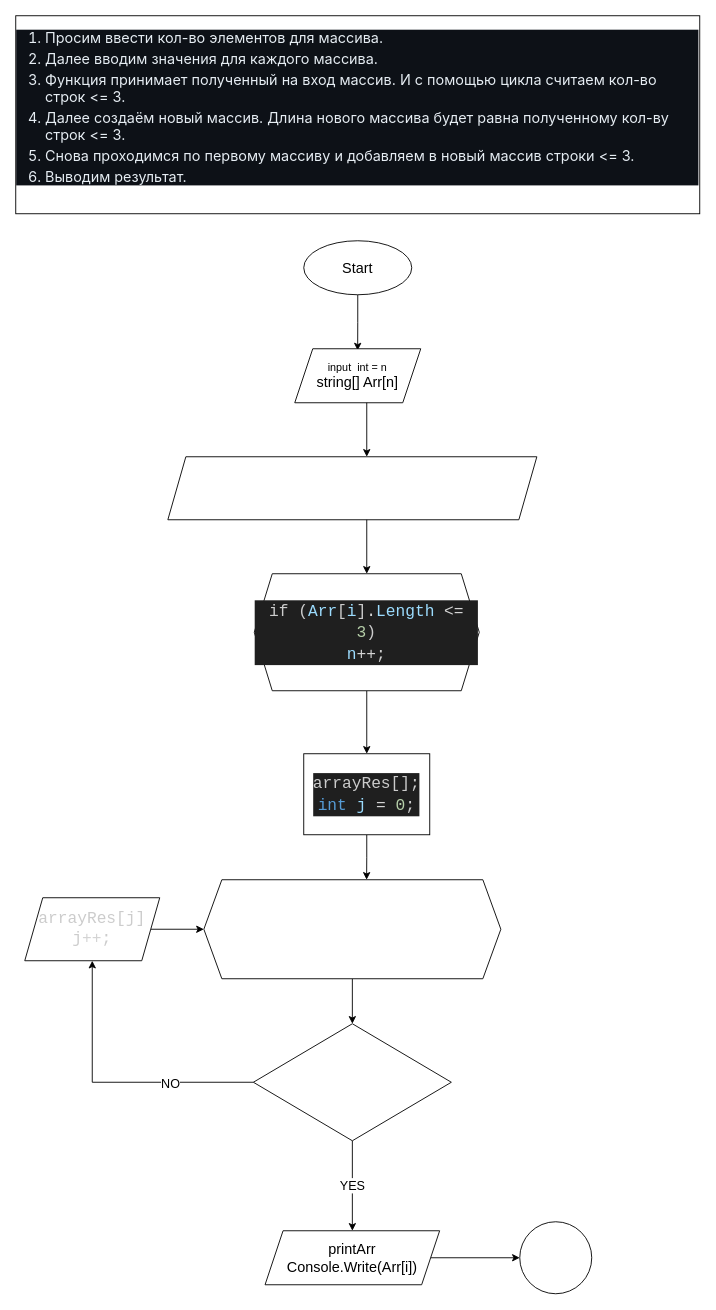
Image size: 716x1310. Some labels were removed from this diagram. Each missing label, with the centre of its shape:
"Arr[ i ] . Length <= 3" goes at point 351,1082.
"int i = 0 ; i < Arr . Length ; i ++" goes at point 352,929.
"int n = 0; int i = 0 ; i < stringArr . Length ; i ++" goes at point 352,488.
"THE END" goes at point 555,1257.
